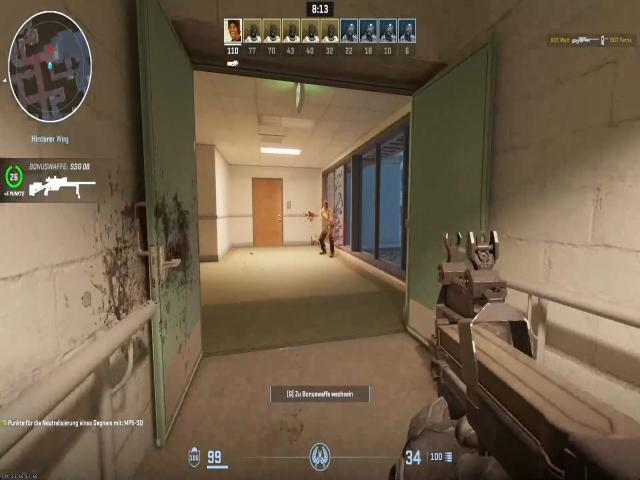T: (319, 202, 332, 250)
T-Head: (321, 198, 333, 215), (332, 195, 334, 198)
